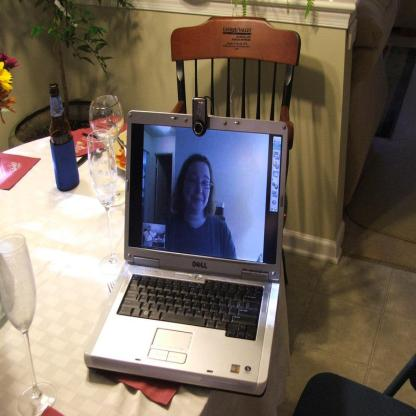board: (82, 111, 292, 401), (49, 83, 78, 193)
